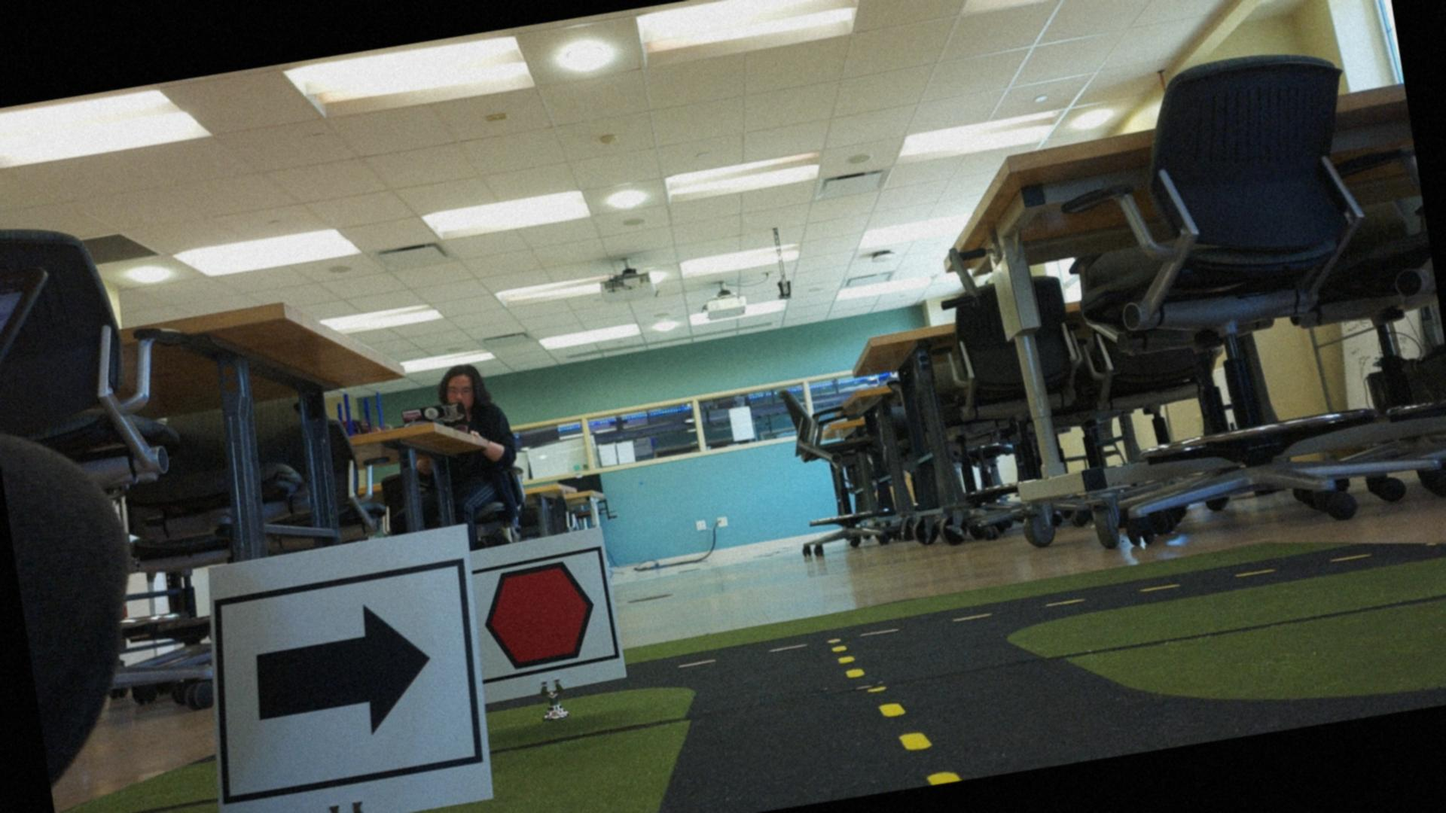stop: (468, 553, 609, 682)
turnright: (215, 568, 480, 803)
yellowline: (880, 691, 956, 791), (832, 639, 866, 684)
